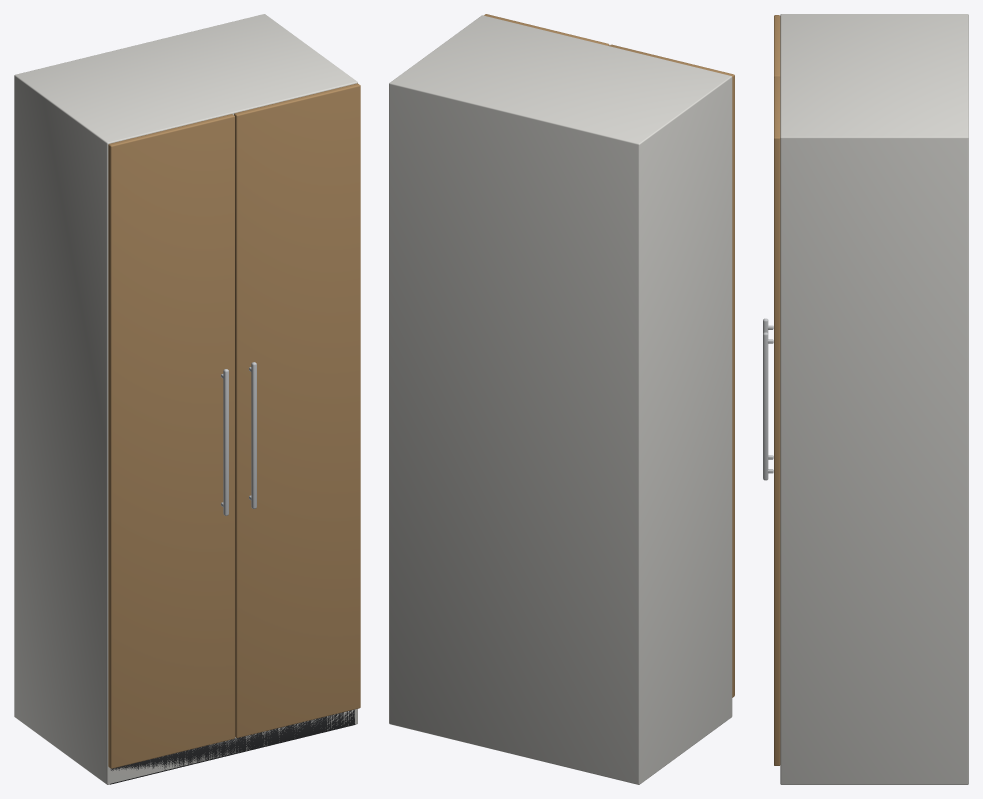
File: armario-medio.glb
3 renders of one model, left to right at view 1: azimuth 30°, elevation 25°; view 2: azimuth 150°, elevation 25°; view 3: azimuth 270°, elevation 25°, orthographic.
Parts seen in each view (by area): view 1: Cuerpo.011, Puerta.007, Puerta.008, Zócalo.006, Tirador.013, Tirador.012; view 2: Cuerpo.011, Puerta.007; view 3: Cuerpo.011, Puerta.008, Tirador.013, Puerta.007.
Part boxes in pixels (<box>): Cuerpo.011: <box>14,14,357,784</box>; Puerta.007: <box>108,114,234,768</box>; Puerta.008: <box>234,83,360,737</box>; Zócalo.006: <box>110,710,355,784</box>; Tirador.013: <box>251,362,256,508</box>; Tirador.012: <box>223,369,228,515</box>; Cuerpo.011: <box>389,15,732,784</box>; Puerta.007: <box>609,44,734,697</box>; Cuerpo.011: <box>780,14,968,784</box>; Puerta.008: <box>774,77,780,765</box>; Tirador.013: <box>763,332,768,480</box>; Puerta.007: <box>774,15,780,77</box>.
Bounding box in the file's own units: 0.9 × 2.2 × 0.633.
